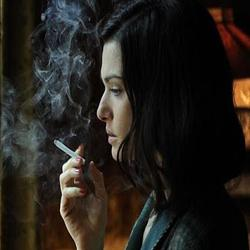smoking: (51, 139, 110, 239)
